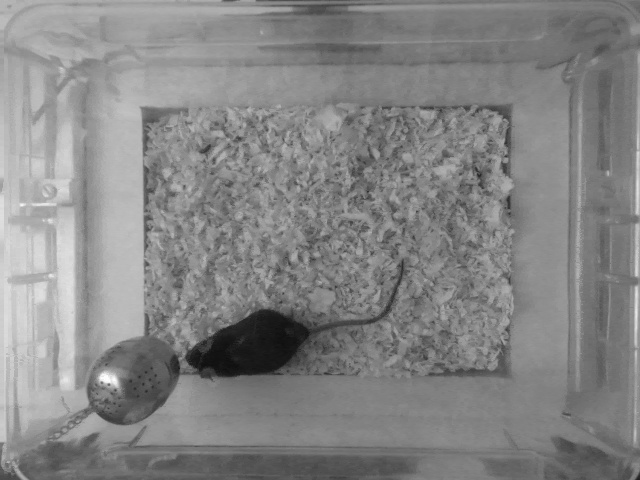mice: (178, 257, 410, 384)
